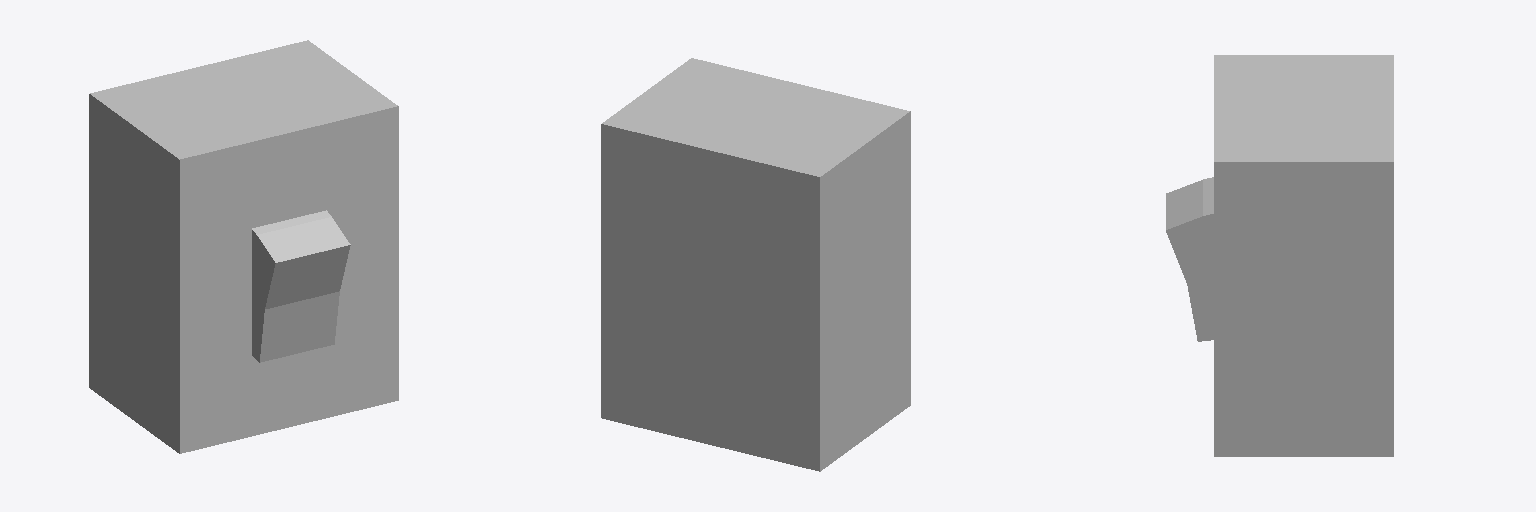
The model's file is onSwitch.obj.
3 views of the same model, side by side, from view 1: azimuth 30°, elevation 25°; view 2: azimuth 150°, elevation 25°; view 3: azimuth 270°, elevation 25° (orthographic).
Visible parts, largest first — view 1: Box001, VExtr042; view 2: Box001; view 3: Box001, VExtr042.
Part boxes in pixels (x1,y1,x2,y2): Box001: (89,40,398,453); VExtr042: (252,210,350,362); Box001: (601,58,910,471); Box001: (1214,55,1393,456); VExtr042: (1166,177,1213,341).
Size of the model in its own units: 14 by 18 by 12.68.